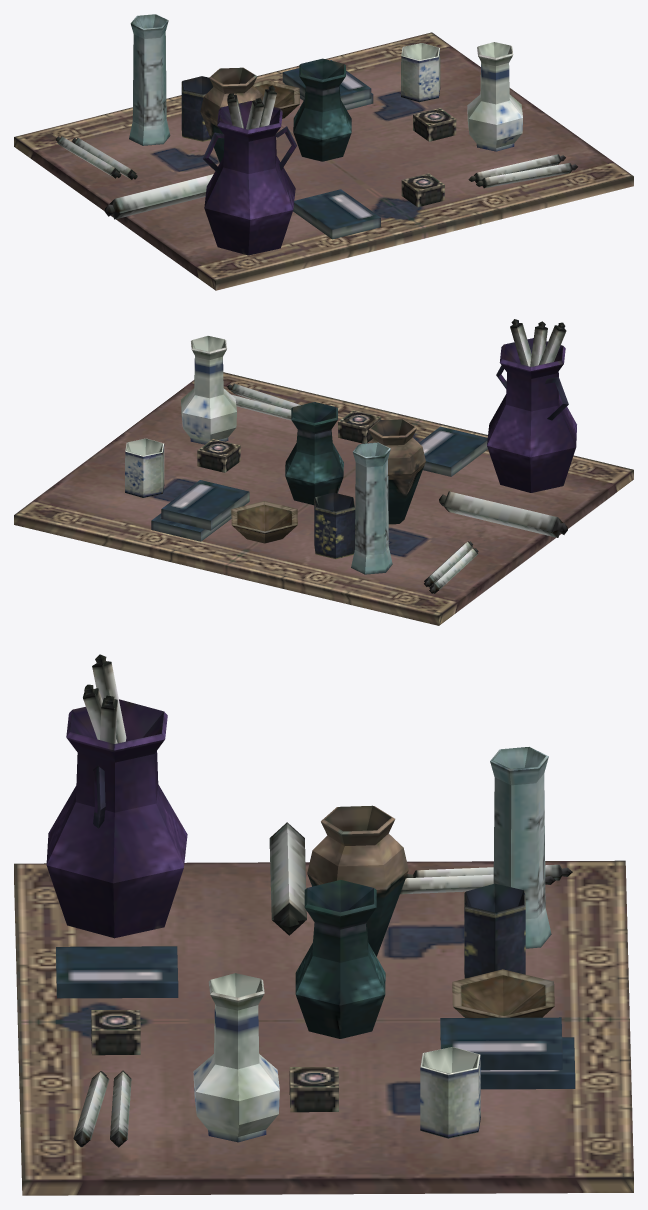
The model's file is 书法地摊01.fbx.
3 renders of one model, top to bottom at view 1: azimuth 30°, elevation 25°; view 2: azimuth 150°, elevation 25°; view 3: azimuth 270°, elevation 25°, orthographic. The views are drawn at different scales.
Parts seen in each view (by area): view 1: qingmo_obj_260 [10484606]; view 2: qingmo_obj_260 [10484606]; view 3: qingmo_obj_260 [10484606].
Part boxes in pixels (<box>): qingmo_obj_260 [10484606]: <box>14,14,633,290</box>; qingmo_obj_260 [10484606]: <box>14,319,633,625</box>; qingmo_obj_260 [10484606]: <box>14,654,633,1195</box>.
Size of the model in its own units: 13.27 by 10.4 by 4.75.
1 material, 1 textured.
